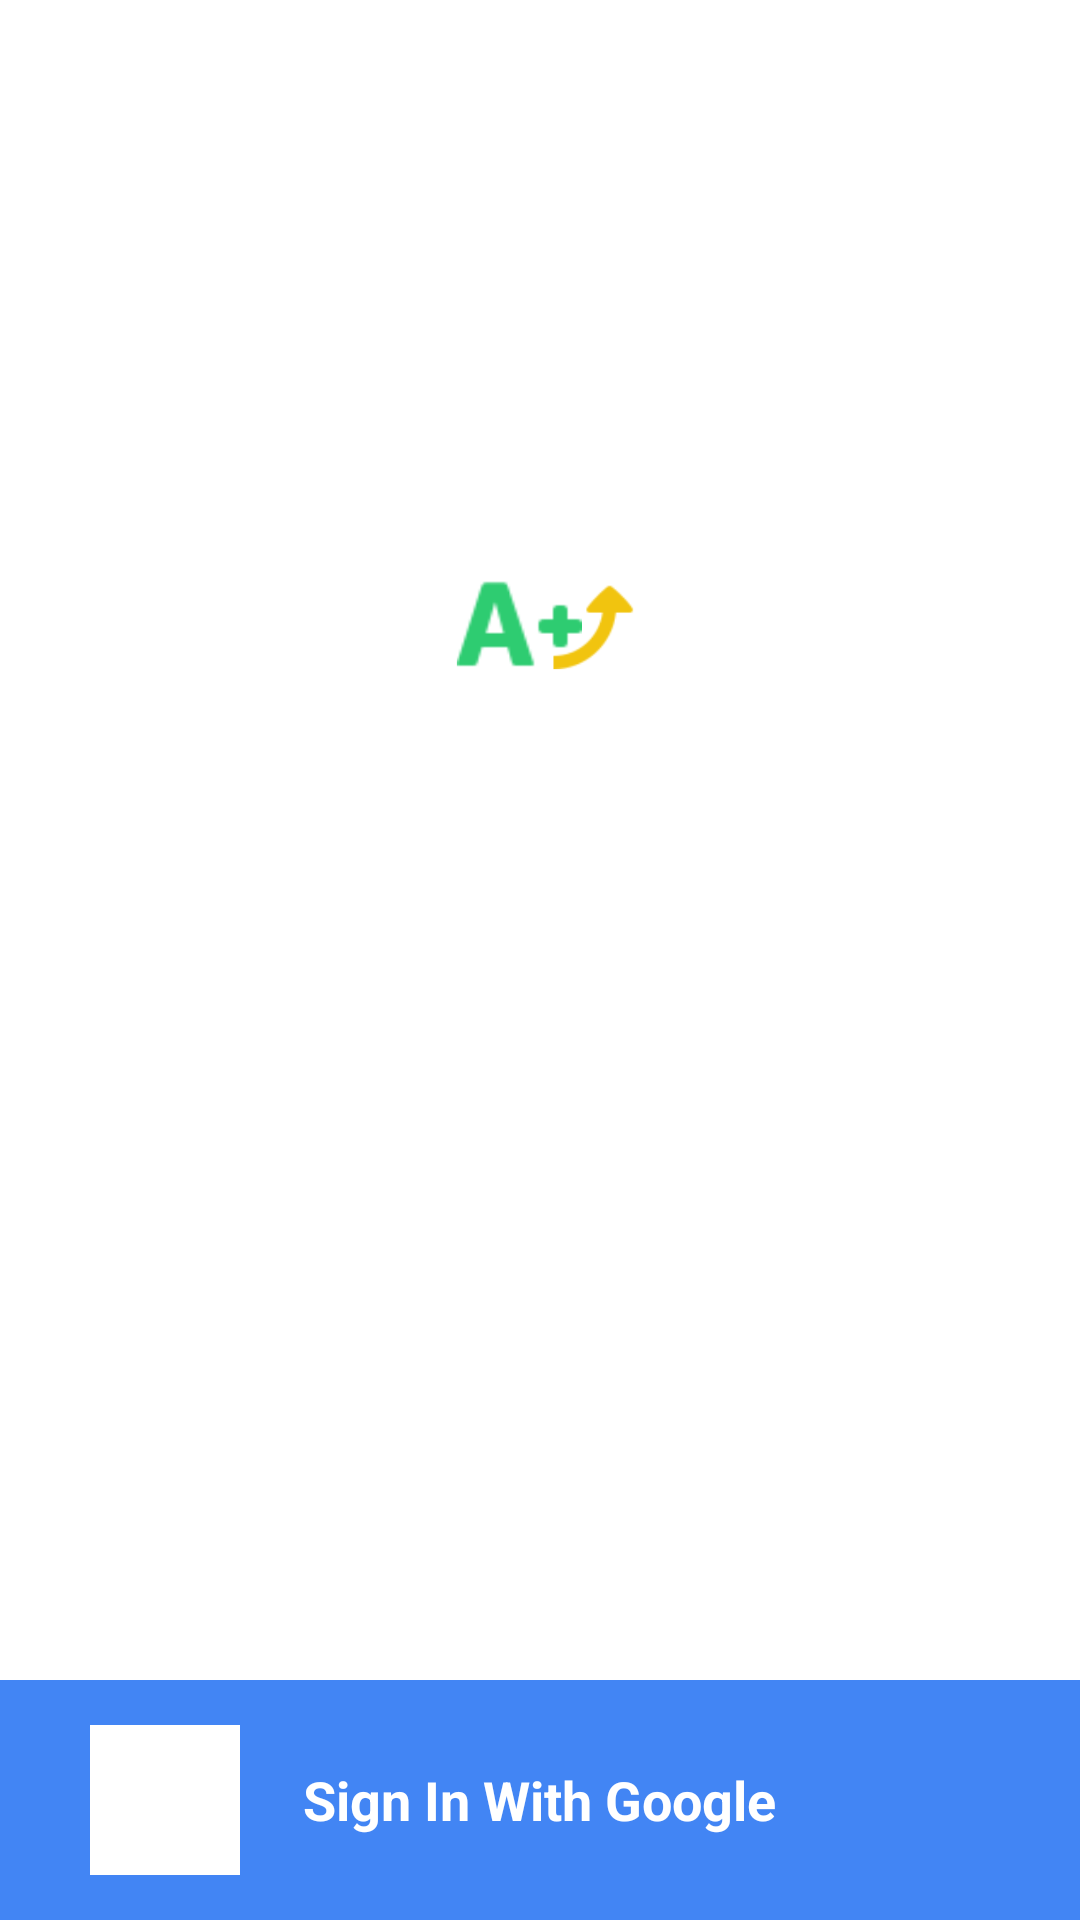

Named icons in this screenshot (1080*1920) and their bounding boxes, (x1, y1, x2, y2):
promotion: (457, 581, 633, 670)
